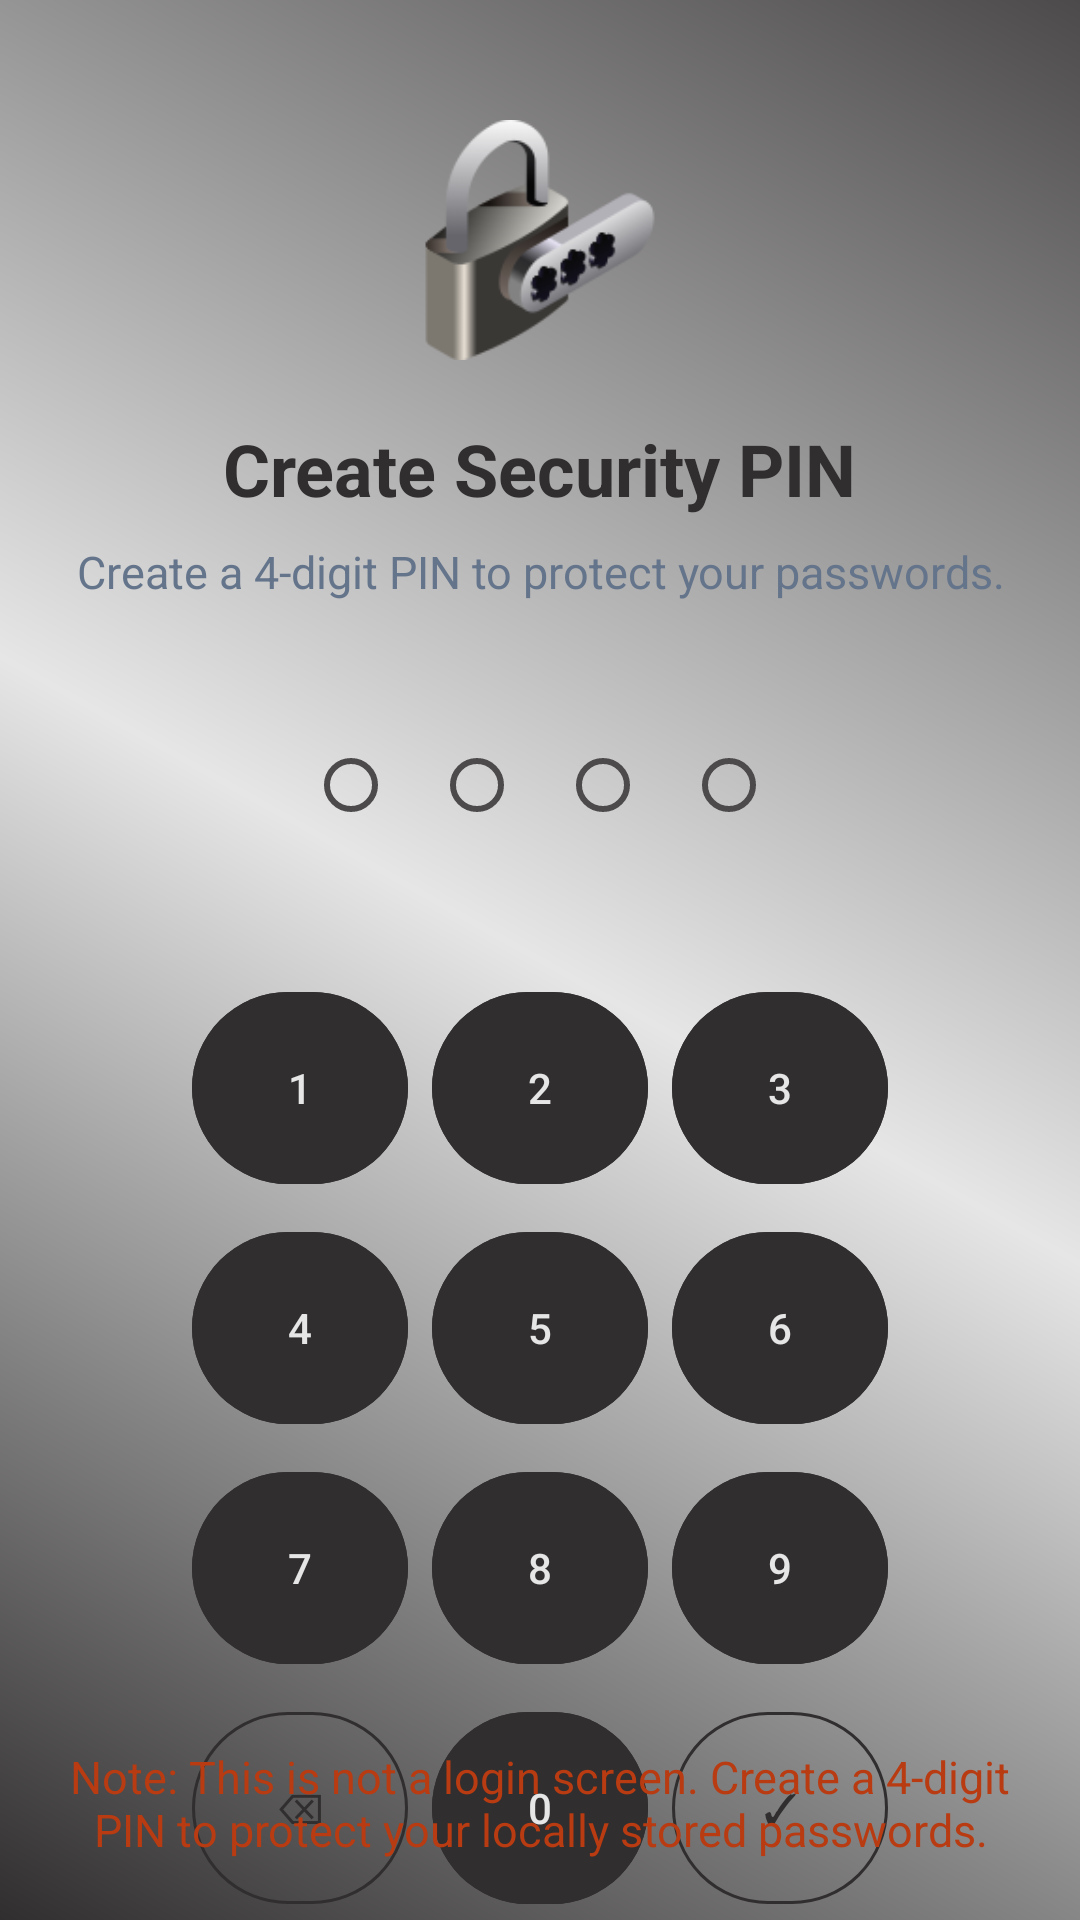

Icons on this 1080×1920 Android screen, each with its box as rect(x1, y1, x2, y2):
pin code: rect(425, 120, 660, 360)
